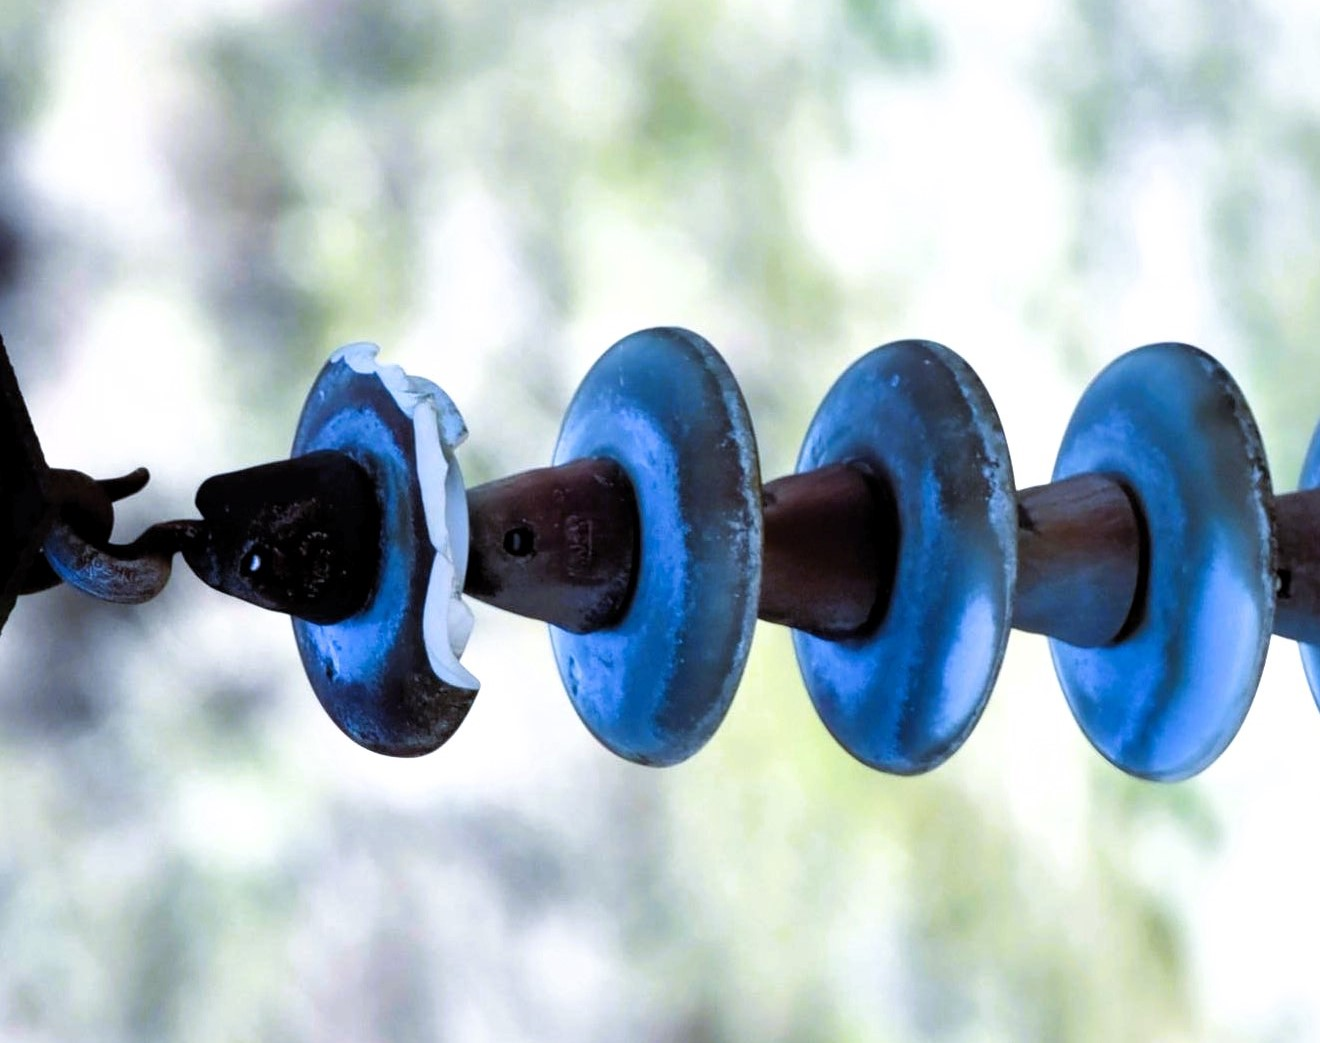insulator breakage: (277, 334, 492, 763)
